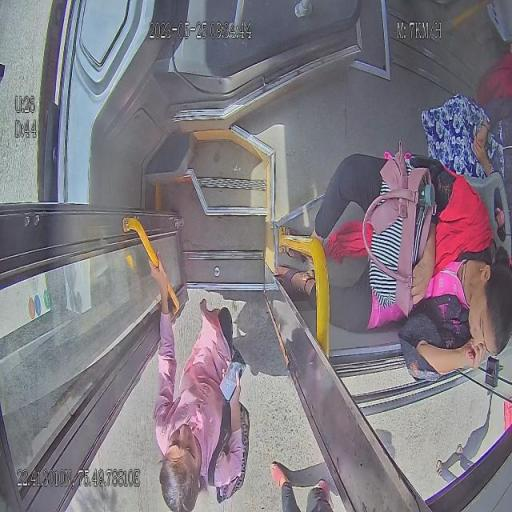persona: (273, 144, 511, 382), (148, 249, 250, 511), (270, 460, 336, 511)
